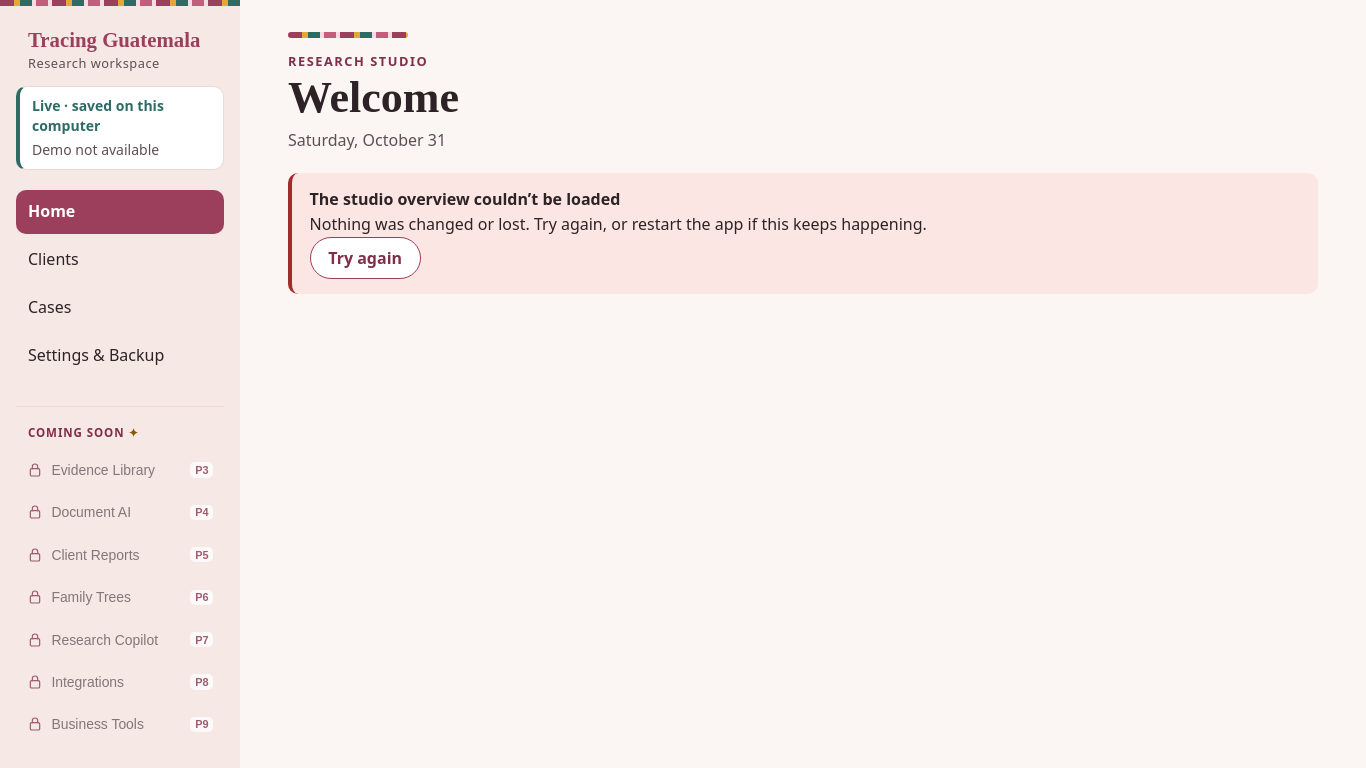
Test case: loading and errors › shows an error with a retry that loads the studio
The image size is (1366, 768).
Expected: the message shows "The studio overview", [310,188,620,210]
Expected: the link "Continue researching" is not shown
Click the button "Try again" at [365, 258], box [310,237,421,279]
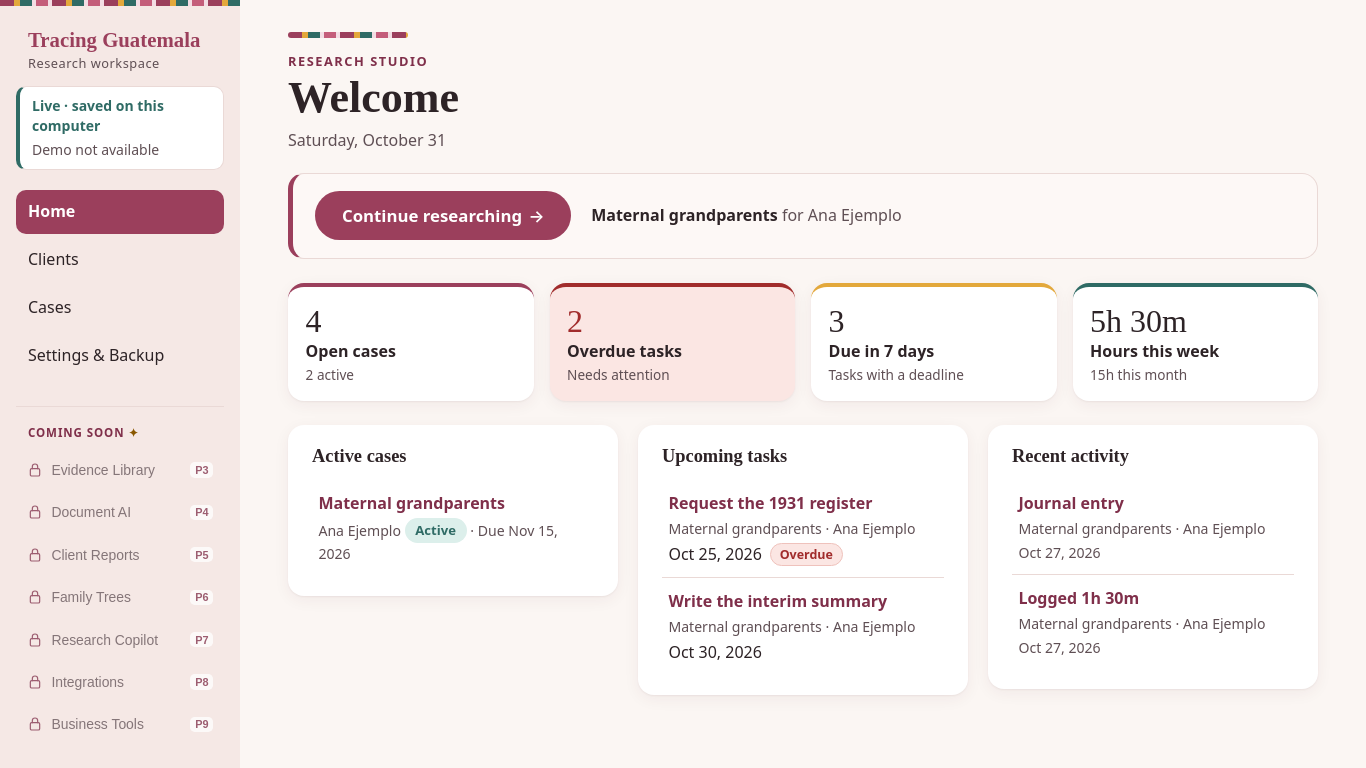
Now the link "Continue researching →" is shown, box [315,191,571,240]
Now the message is gone
